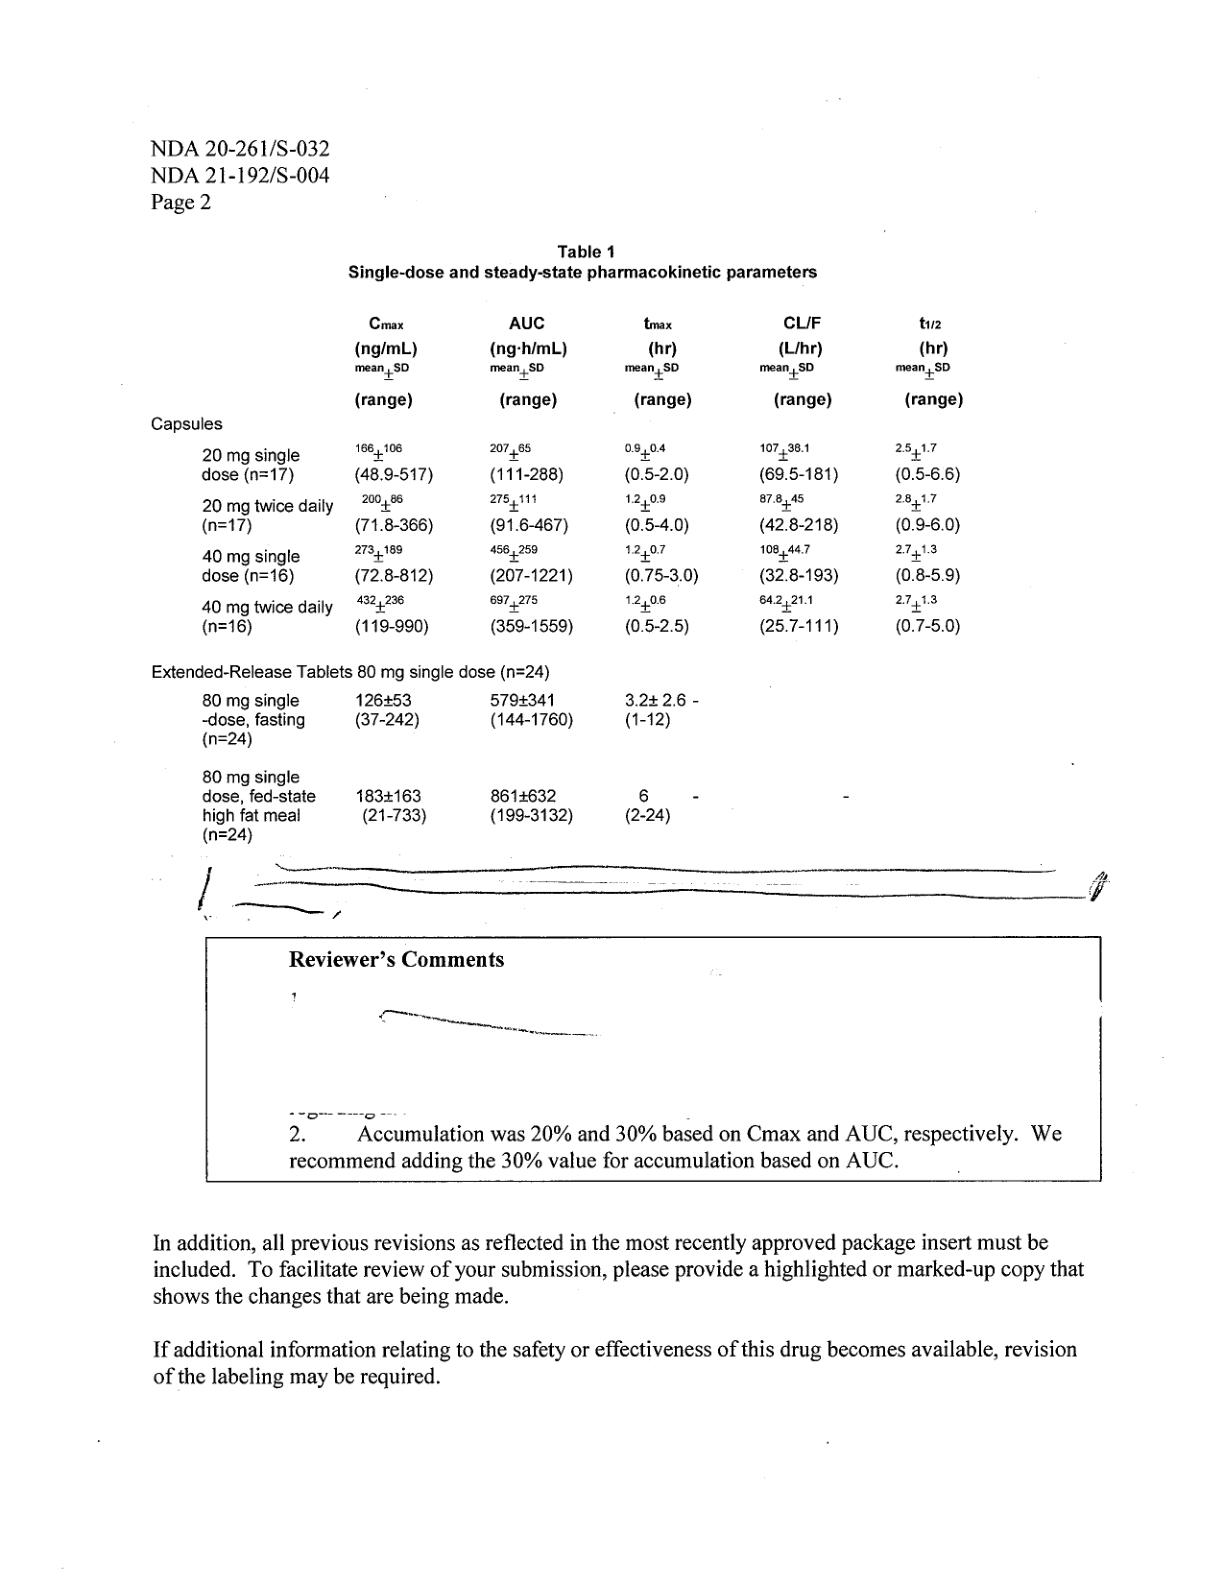nolines: (147, 309, 967, 842)
